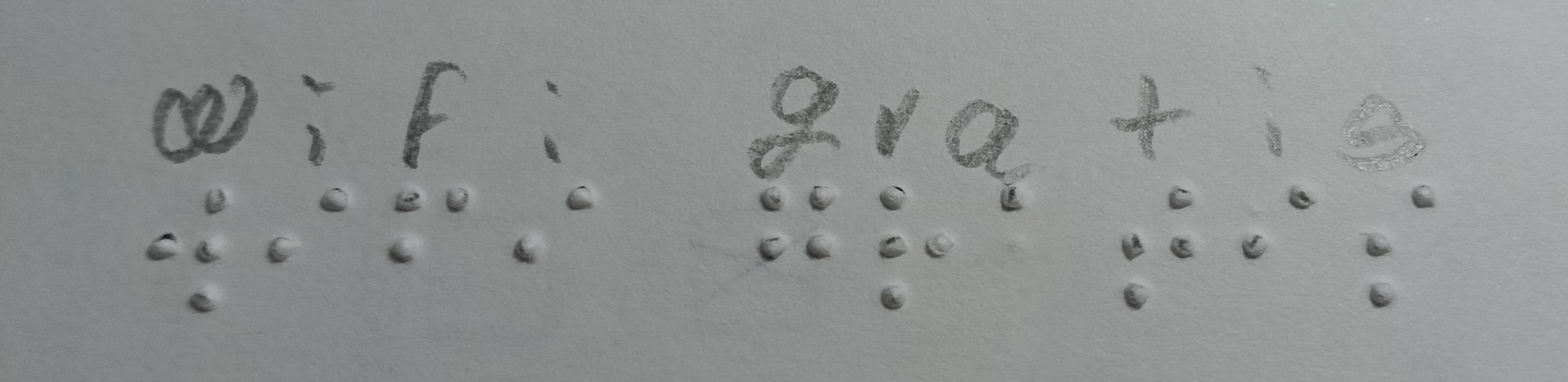a: (968, 178, 1062, 242)
f: (367, 166, 480, 276)
g: (742, 179, 853, 268)
i: (496, 166, 609, 279), (252, 171, 362, 273), (1220, 179, 1325, 279)
r: (860, 178, 958, 311)
s: (1346, 179, 1446, 311)
t: (1105, 179, 1201, 315)
w: (123, 169, 239, 323)
